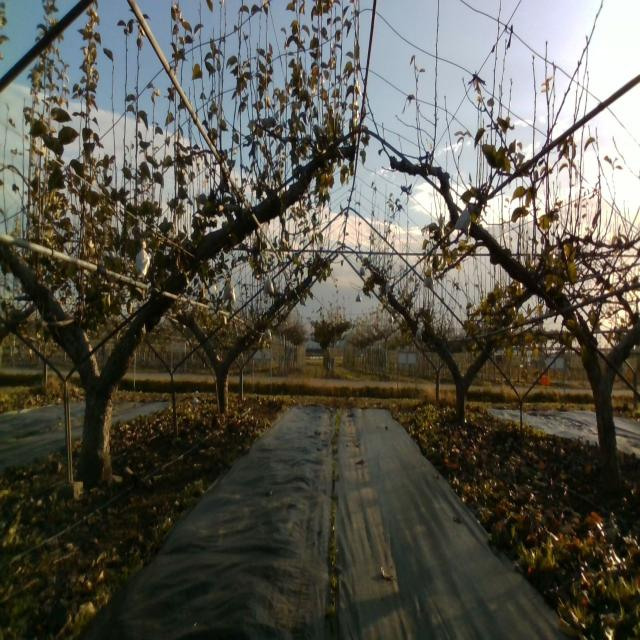pearbags: (454, 204, 472, 239), (135, 240, 151, 275), (222, 279, 236, 302), (262, 275, 276, 294)
